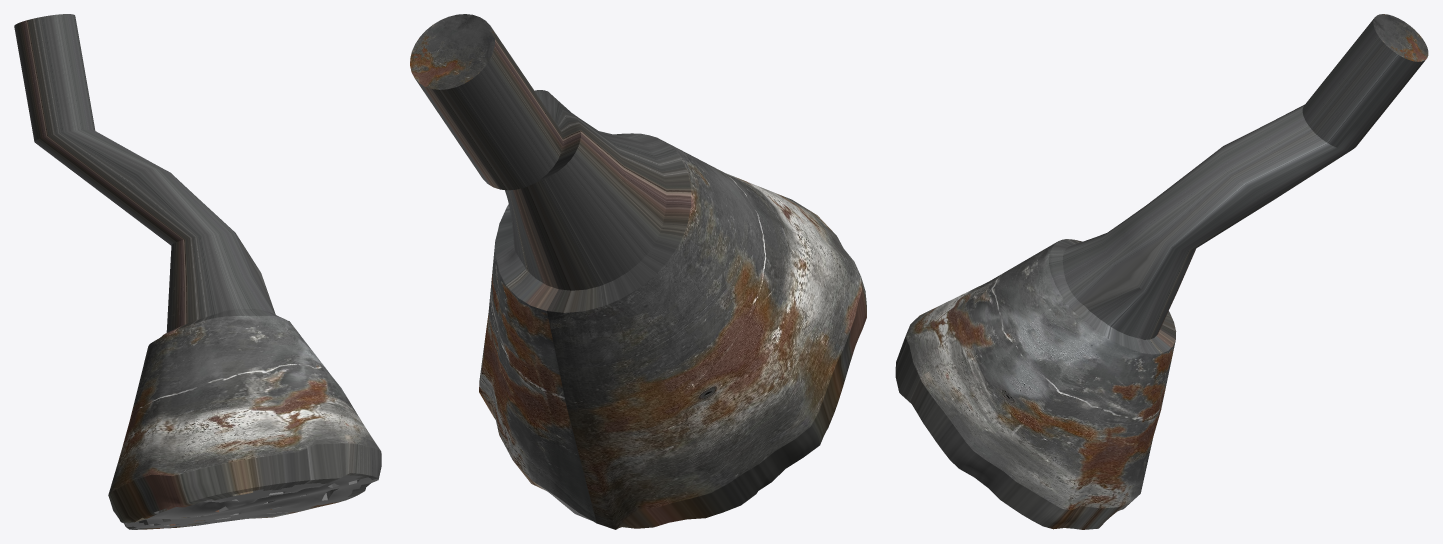
The model's file is PRP_ShowerHead.fbx.
3 renders of one model, left to right at view 1: azimuth 30°, elevation 25°; view 2: azimuth 150°, elevation 25°; view 3: azimuth 270°, elevation 25°, orthographic. The views are drawn at different scales.
Parts seen in each view (by area): view 1: Cylinder.002; view 2: Cylinder.002; view 3: Cylinder.002.
Boxes of the visible parts, x1,y1,x2,y2 form: Cylinder.002: (14, 14, 381, 529); Cylinder.002: (410, 14, 866, 529); Cylinder.002: (895, 14, 1428, 529).
Size of the model in its own units: 0.0833 by 0.1496 by 0.1555.
Materials: 3 (2 with a texture image).
